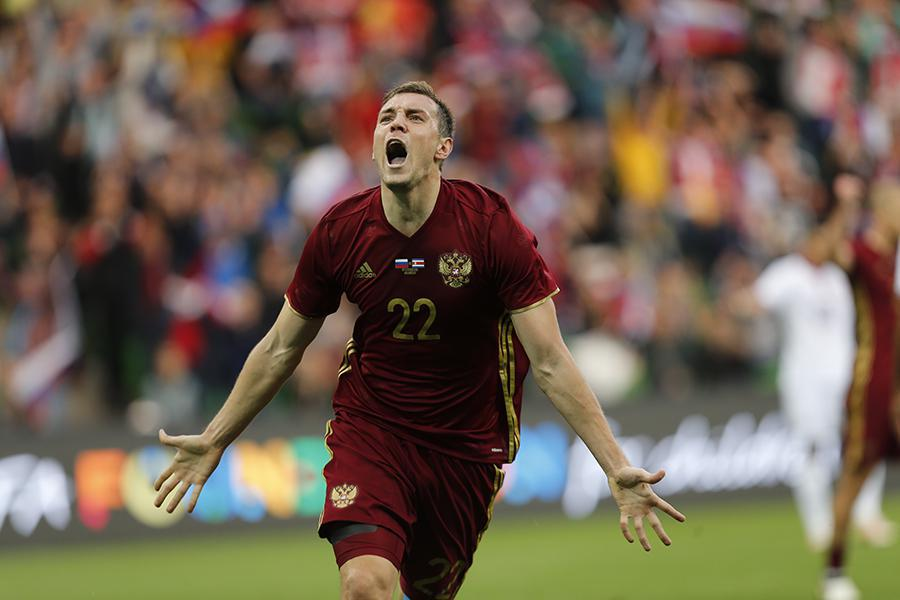player: (249, 64, 569, 593)
